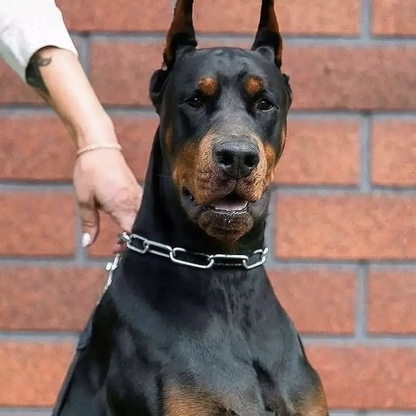doberman: (139, 11, 334, 413)
